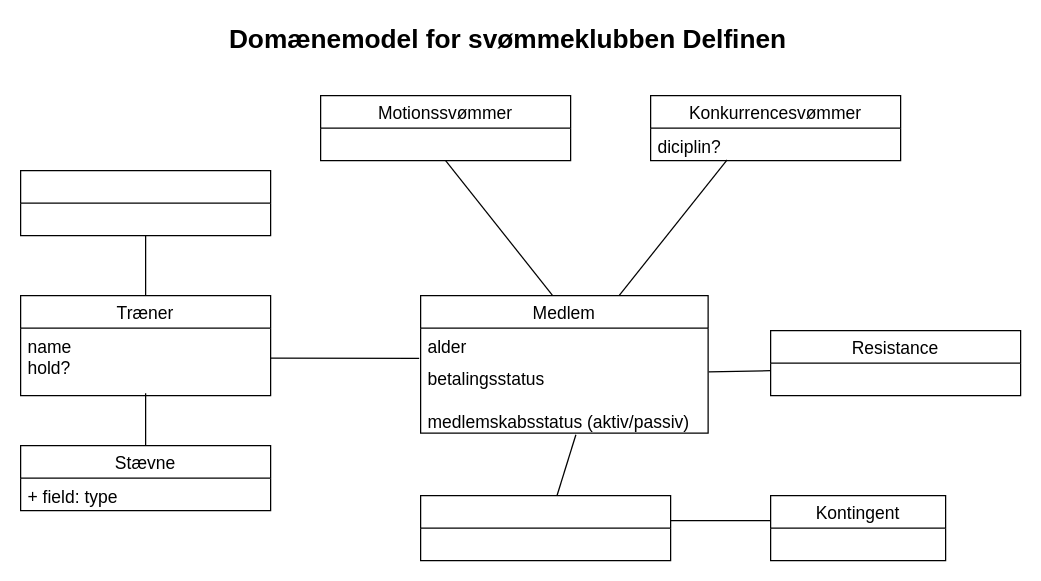
Image size: 1041x581. Some labels were removed from this diagram. The centre of each missing label's shape, as x and y in pixels:
Medlemsstype: (x=545, y=527)
Træning: (x=145, y=202)
